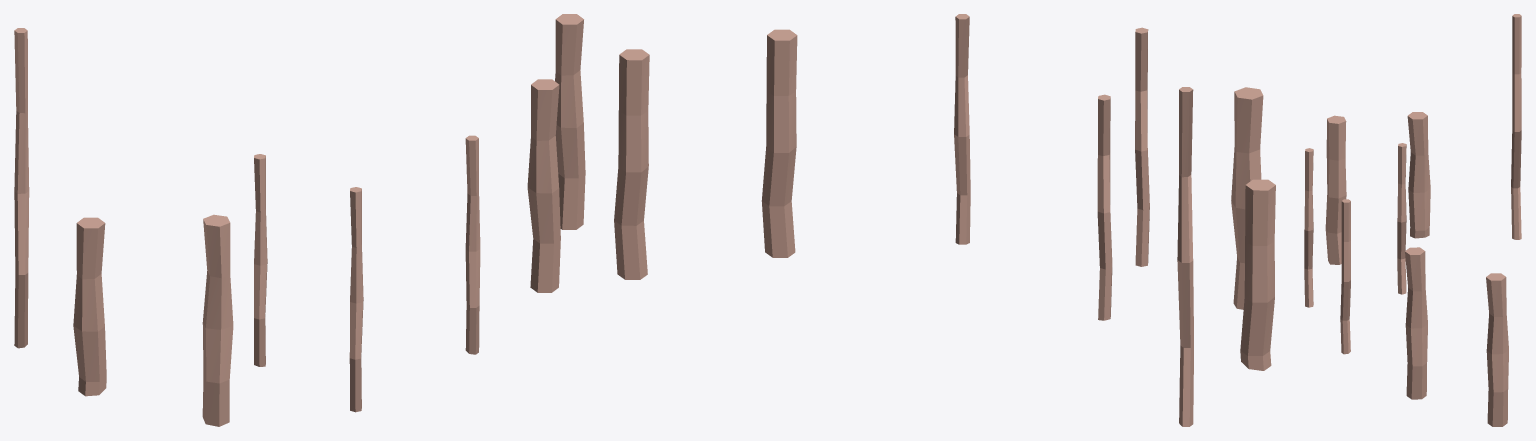
The model's file is TreeTrunk.dae.
3 renders of one model, left to right at view 1: azimuth 30°, elevation 25°; view 2: azimuth 150°, elevation 25°; view 3: azimuth 270°, elevation 25°, orthographic. The views are drawn at different scales.
Visible parts, largest first — view 1: TreeTrunks; view 2: TreeTrunks; view 3: TreeTrunks.
Boxes of the visible parts, x1,y1,x2,y2 form: TreeTrunks: [14, 14, 585, 426]; TreeTrunks: [614, 14, 1275, 426]; TreeTrunks: [1304, 14, 1521, 426].
Size of the model in its own units: 4.36 by 2.07 by 2.36.
